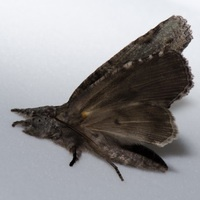insect: (11, 16, 192, 180)
